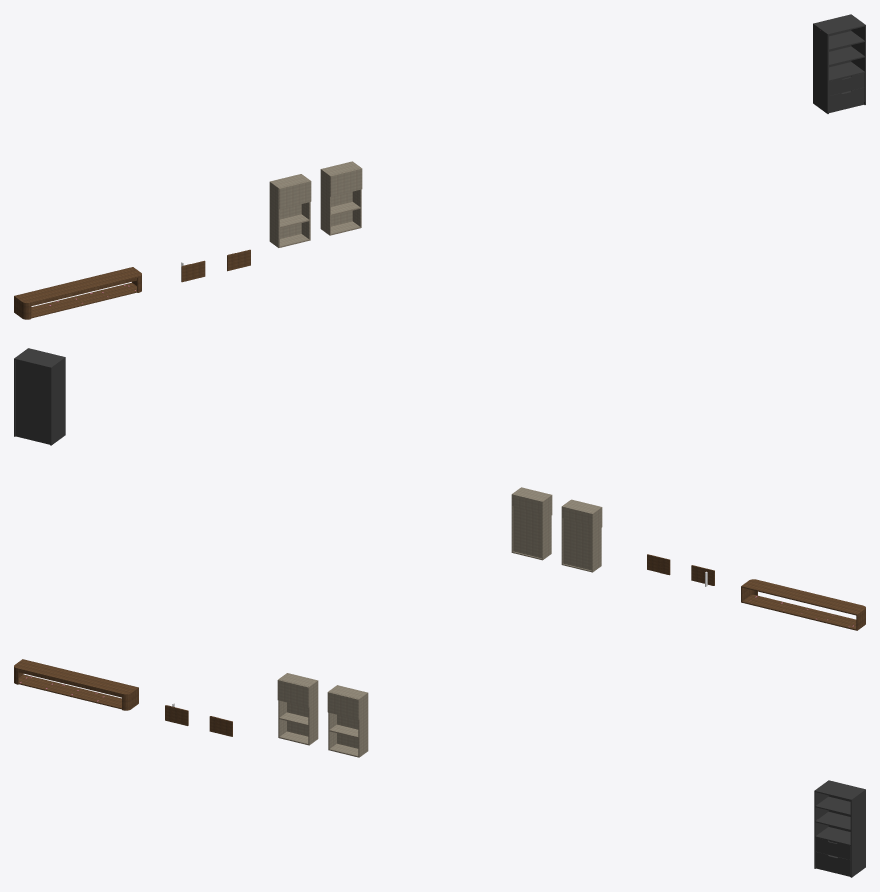
3 renders of one model, top to bottom at view 1: azimuth 30°, elevation 25°; view 2: azimuth 150°, elevation 25°; view 3: azimuth 330°, elevation 25°, orthographic. The views are drawn at different scales.
Parts seen in each view (by area): view 1: ABF_PART_1____LYR_[Layer0]____1. KỆ TIVI-NÓC, ABF_PART_75____LYR_[Layer0]____75. HÔNG TRÁI, ABF_PART_2____LYR_[Layer0]____2. KỆ TIVI-ĐÁY, ABF_PART_58____LYR_[Layer0]____58. TỦ treo-Cánh Lật, ABF_PART_68____LYR_[Layer0]____68. TỦ treo-Cánh Lật, ABF_PART_51____LYR_[Layer0]____51. TỦ treo-HÔNG TRÁI, ABF_PART_63____LYR_[Layer0]____63. TỦ treo-HÔNG TRÁI, ABF_PART_74____LYR_[Layer0]____74. NÓC; view 2: ABF_PART_73____LYR_[Layer0]____73. HẬU, ABF_PART_1____LYR_[Layer0]____1. KỆ TIVI-NÓC, ABF_PART_55____LYR_[Layer0]____55. TỦ treo-HẬU, ABF_PART_61____LYR_[Layer0]____61. TỦ treo-HẬU, ABF_PART_2____LYR_[Layer0]____2. KỆ TIVI-ĐÁY, ABF_PART_75____LYR_[Layer0]____75. HÔNG TRÁI, ABF_PART_51____LYR_[Layer0]____51. TỦ treo-HÔNG TRÁI, ABF_PART_63____LYR_[Layer0]____63. TỦ treo-HÔNG TRÁI, ABF_PART_74____LYR_[Layer0]____74. NÓC; view 3: ABF_PART_1____LYR_[Layer0]____1. KỆ TIVI-NÓC, ABF_PART_76____LYR_[Layer0]____76. HÔNG PHẢI, ABF_PART_2____LYR_[Layer0]____2. KỆ TIVI-ĐÁY, ABF_PART_58____LYR_[Layer0]____58. TỦ treo-Cánh Lật, ABF_PART_68____LYR_[Layer0]____68. TỦ treo-Cánh Lật, ABF_PART_52____LYR_[Layer0]____52. TỦ treo-HÔNG PHẢI, ABF_PART_64____LYR_[Layer0]____64. TỦ treo-HÔNG PHẢI, ABF_PART_74____LYR_[Layer0]____74. NÓC, ABF_PART_91____LYR_[Layer0]____91. Mặt Ngăn Kéo, ABF_PART_90____LYR_[Layer0]____90. Mặt Ngăn Kéo, ABF_PART_61____LYR_[Layer0]____61. TỦ treo-HẬU, ABF_PART_55____LYR_[Layer0]____55. TỦ treo-HẬU (+4 smaller).
Boxes of the visible parts, box(x1,y1,x2,y2) form: ABF_PART_1____LYR_[Layer0]____1. KỆ TIVI-NÓC: box(14, 267, 141, 304); ABF_PART_75____LYR_[Layer0]____75. HÔNG TRÁI: box(813, 25, 828, 113); ABF_PART_2____LYR_[Layer0]____2. KỆ TIVI-ĐÁY: box(31, 282, 136, 318); ABF_PART_58____LYR_[Layer0]____58. TỦ treo-Cánh Lật: box(279, 180, 311, 209); ABF_PART_68____LYR_[Layer0]____68. TỦ treo-Cánh Lật: box(330, 168, 362, 196); ABF_PART_51____LYR_[Layer0]____51. TỦ treo-HÔNG TRÁI: box(269, 181, 279, 247); ABF_PART_63____LYR_[Layer0]____63. TỦ treo-HÔNG TRÁI: box(320, 169, 330, 235); ABF_PART_74____LYR_[Layer0]____74. NÓC: box(813, 14, 865, 35); ABF_PART_73____LYR_[Layer0]____73. HẬU: box(15, 360, 50, 444); ABF_PART_1____LYR_[Layer0]____1. KỆ TIVI-NÓC: box(741, 579, 865, 615); ABF_PART_55____LYR_[Layer0]____55. TỦ treo-HẬU: box(563, 518, 591, 570); ABF_PART_61____LYR_[Layer0]____61. TỦ treo-HẬU: box(513, 506, 541, 558); ABF_PART_2____LYR_[Layer0]____2. KỆ TIVI-ĐÁY: box(742, 595, 856, 630); ABF_PART_75____LYR_[Layer0]____75. HÔNG TRÁI: box(50, 358, 65, 445); ABF_PART_51____LYR_[Layer0]____51. TỦ treo-HÔNG TRÁI: box(591, 507, 601, 572); ABF_PART_63____LYR_[Layer0]____63. TỦ treo-HÔNG TRÁI: box(541, 495, 551, 560); ABF_PART_74____LYR_[Layer0]____74. NÓC: box(14, 348, 65, 368); ABF_PART_1____LYR_[Layer0]____1. KỆ TIVI-NÓC: box(14, 659, 138, 695); ABF_PART_76____LYR_[Layer0]____76. HÔNG PHẢI: box(850, 791, 865, 877); ABF_PART_2____LYR_[Layer0]____2. KỆ TIVI-ĐÁY: box(18, 674, 121, 709); ABF_PART_58____LYR_[Layer0]____58. TỦ treo-Cánh Lật: box(277, 679, 309, 707); ABF_PART_68____LYR_[Layer0]____68. TỦ treo-Cánh Lật: box(327, 692, 359, 719); ABF_PART_52____LYR_[Layer0]____52. TỦ treo-HÔNG PHẢI: box(308, 680, 318, 745); ABF_PART_64____LYR_[Layer0]____64. TỦ treo-HÔNG PHẢI: box(358, 692, 368, 757); ABF_PART_74____LYR_[Layer0]____74. NÓC: box(814, 780, 865, 800); ABF_PART_91____LYR_[Layer0]____91. Mặt Ngăn Kéo: box(815, 851, 850, 873); ABF_PART_90____LYR_[Layer0]____90. Mặt Ngăn Kéo: box(815, 837, 850, 859); ABF_PART_61____LYR_[Layer0]____61. TỦ treo-HẬU: box(337, 714, 358, 748); ABF_PART_55____LYR_[Layer0]____55. TỦ treo-HẬU: box(287, 702, 308, 736).
Size of what is drawn, in the model's own units: 13.36 by 1.22 by 0.6608.
Materials: 5 (2 with a texture image).
